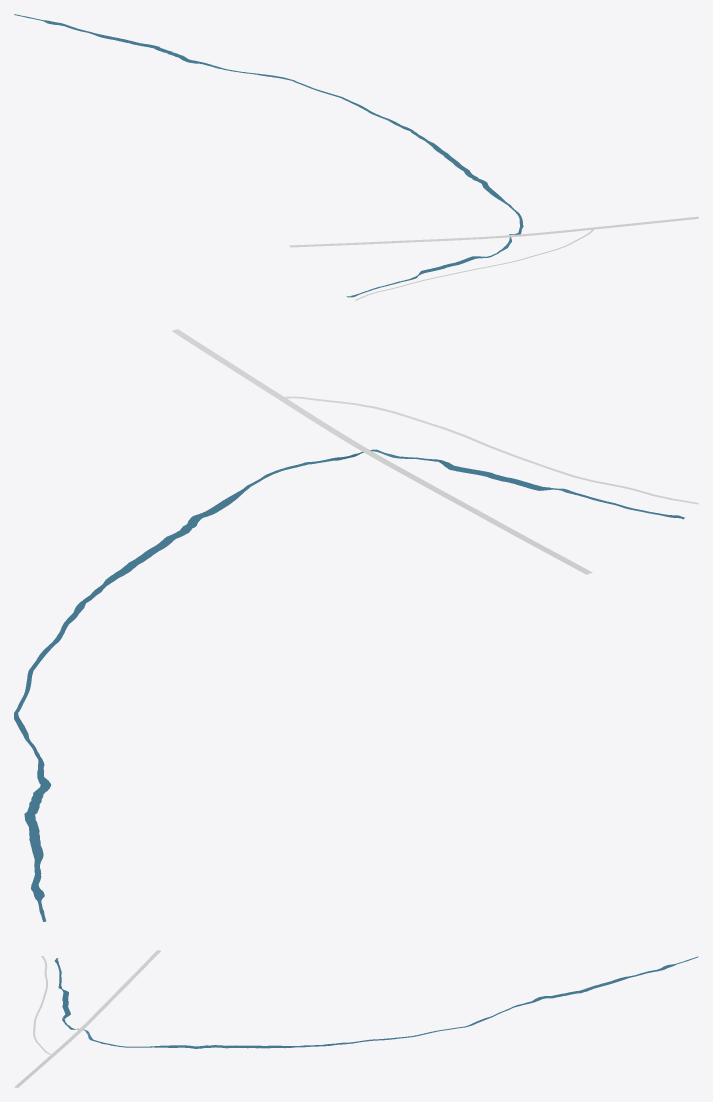
File: objekty.glb
3 views of the same model, one above another, from view 1: azimuth 30°, elevation 25°; view 2: azimuth 150°, elevation 25°; view 3: azimuth 270°, elevation 25° (orthographic). The views are drawn at different scales.
Parts seen in each view (by area): view 1: Voda_04_10, Cesty_04_10; view 2: Voda_04_10, Cesty_04_10; view 3: Voda_04_10, Cesty_04_10.
Boxes of the visible parts, x1=… form: Voda_04_10: x1=14, y1=14, x2=523, y2=297; Cesty_04_10: x1=289, y1=216, x2=698, y2=300; Voda_04_10: x1=14, y1=449, x2=684, y2=921; Cesty_04_10: x1=172, y1=329, x2=698, y2=574; Voda_04_10: x1=54, y1=956, x2=698, y2=1048; Cesty_04_10: x1=14, y1=950, x2=160, y2=1087.
Size of the model in its own units: 502 by 24.19 by 1006.
